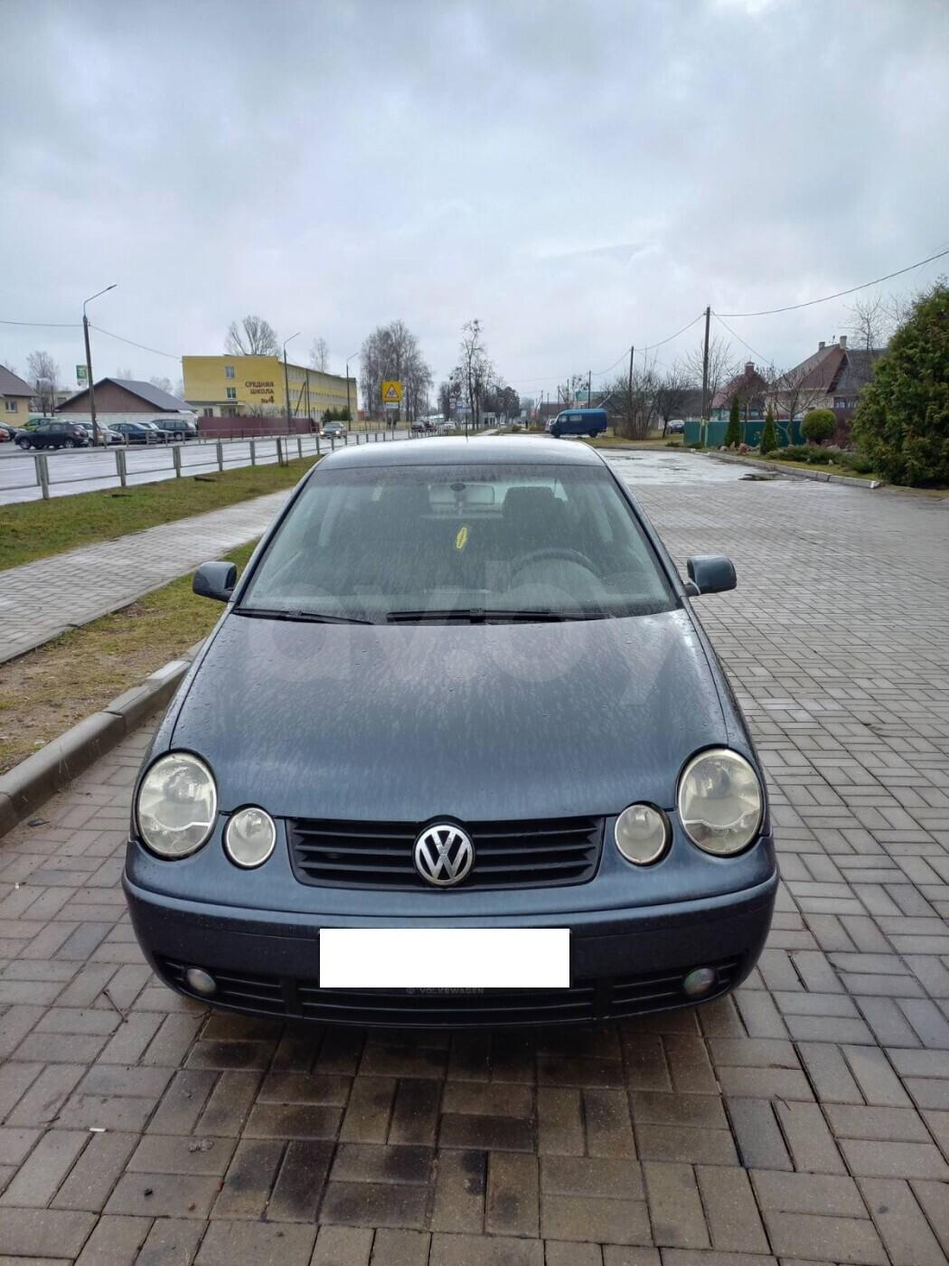Polo_2001-2005: (115, 425, 787, 1040)
